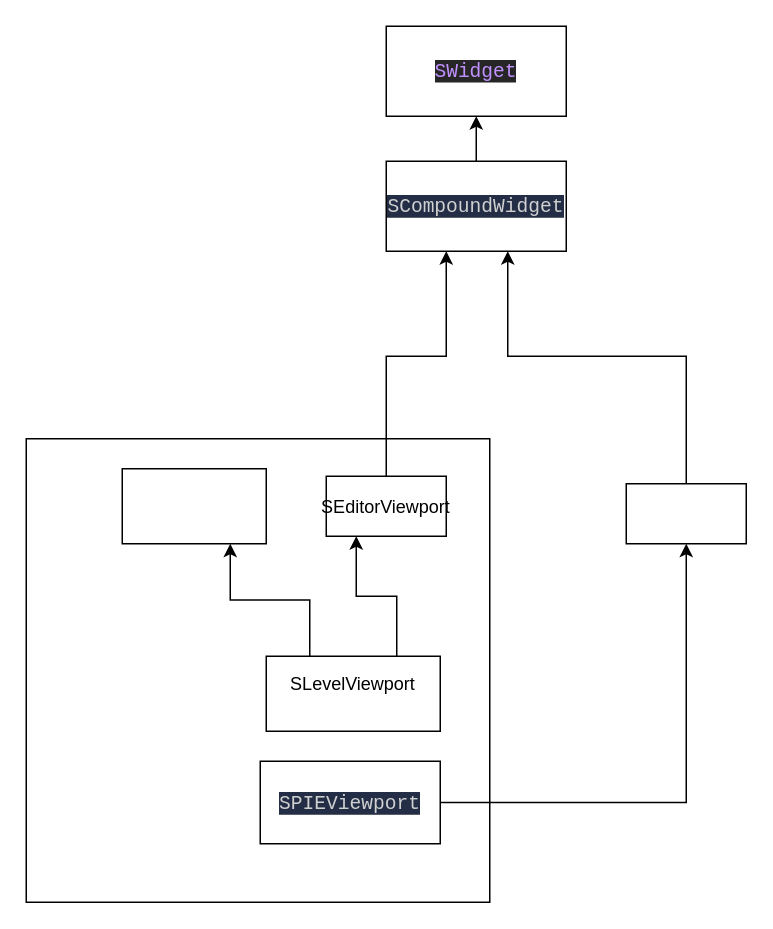
Image size: 773x929. Some labels were removed from this diagram. The centre of each missing label's shape, as x and y in pixels:
IAssetViewport: the point at 193,505
SViewport: the point at 685,513
